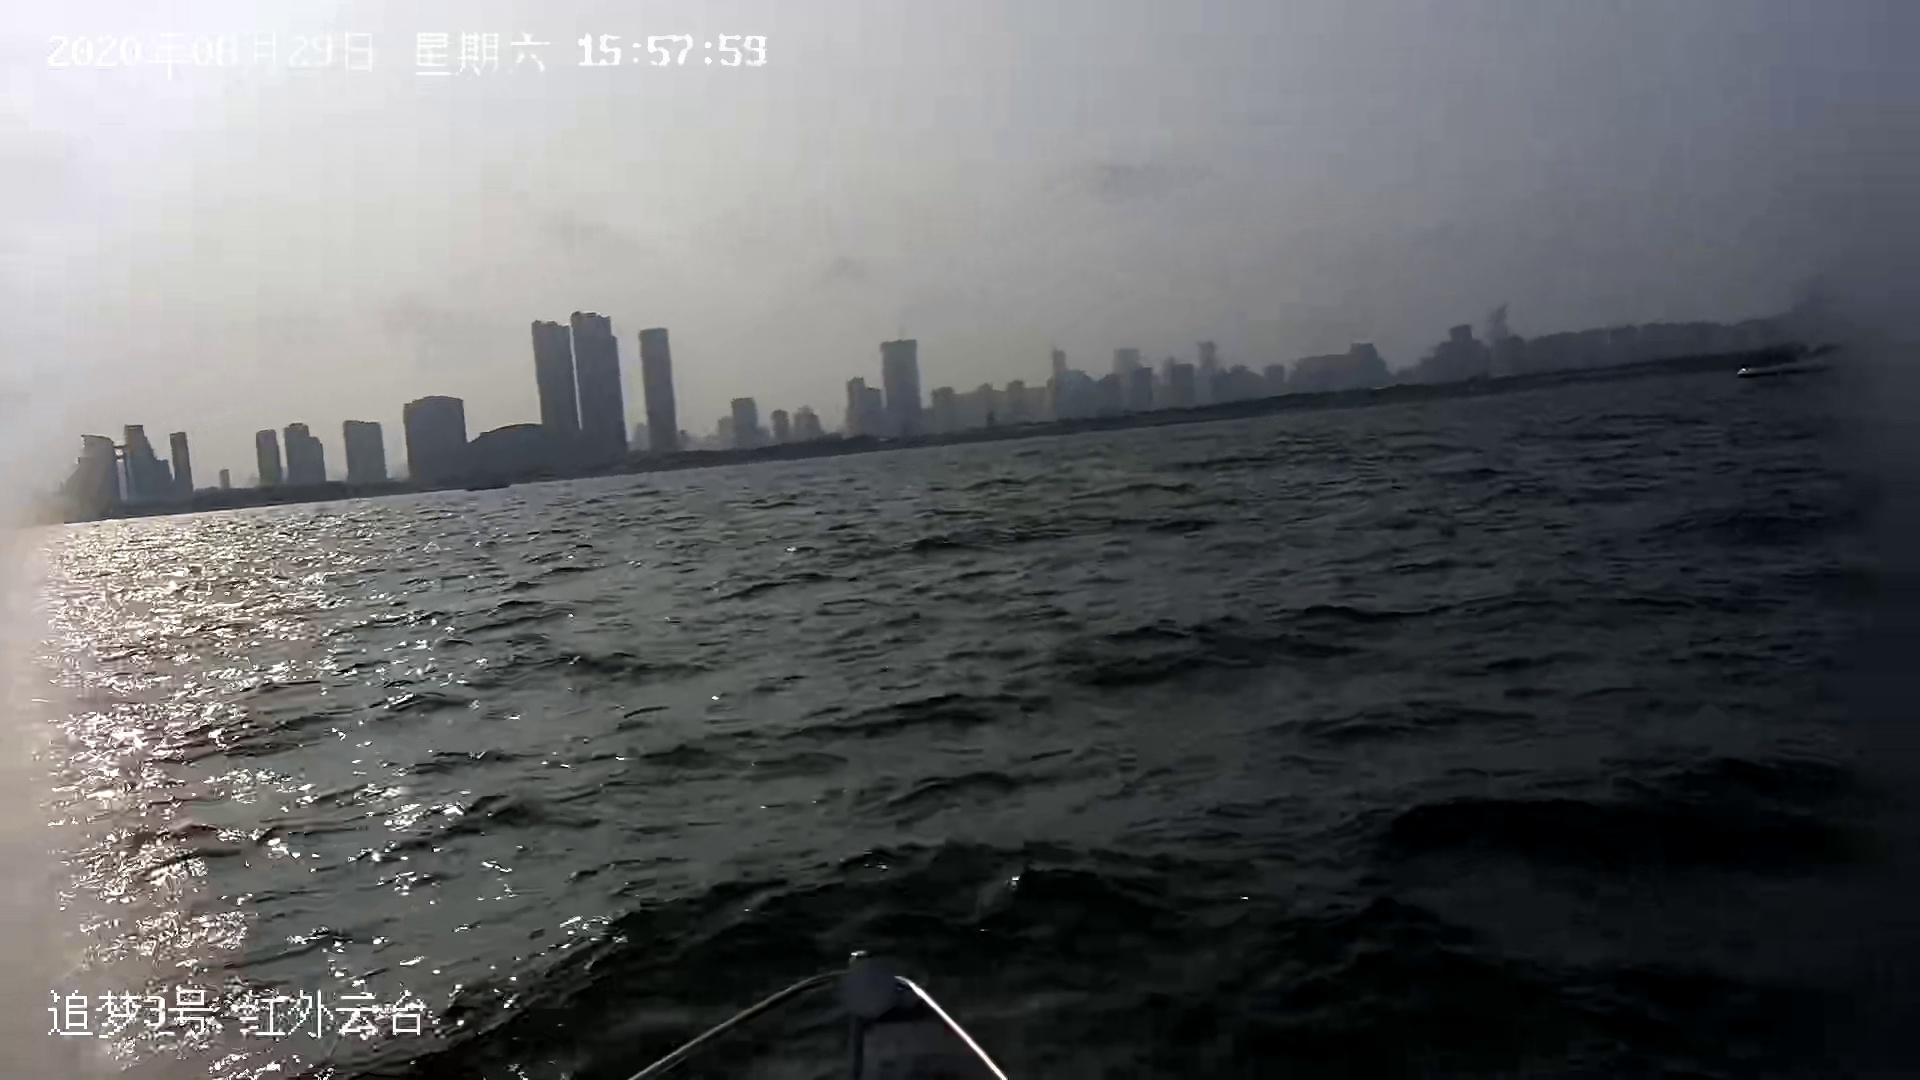barrier: (1738, 356, 1832, 386)
coast: (21, 302, 1920, 531)
